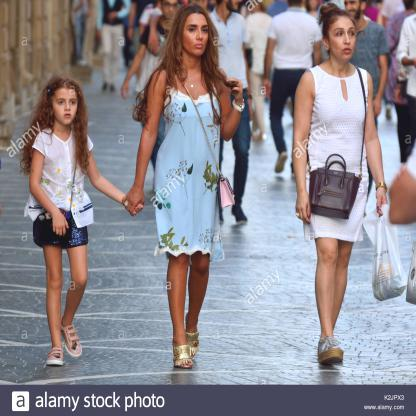person: (138, 5, 235, 368), (292, 6, 385, 368), (26, 77, 102, 366), (260, 0, 322, 175), (212, 0, 258, 230)
